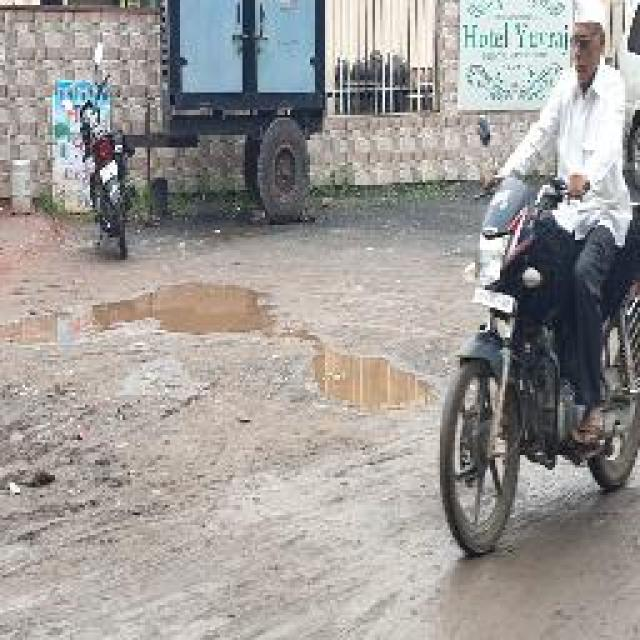stagnation: (107, 270, 275, 338), (310, 350, 428, 413)
